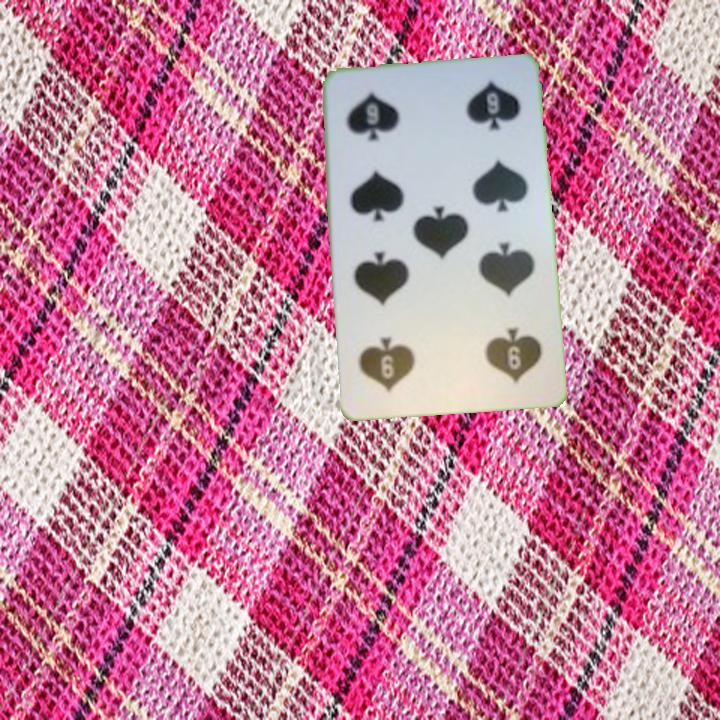s_9.png: (334, 76, 440, 169), (445, 305, 550, 398)
